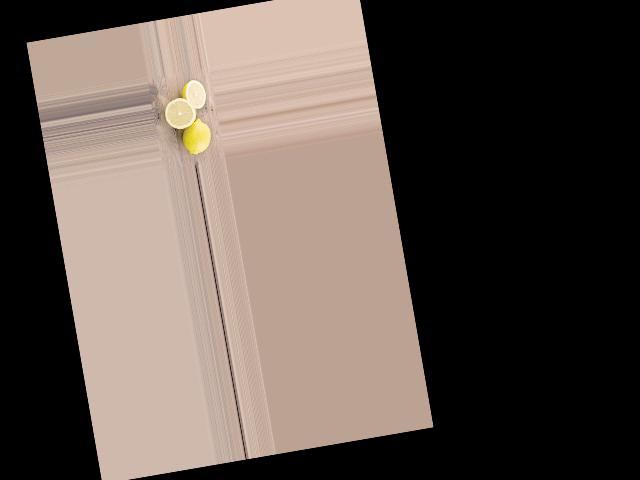lemon: (178, 116, 217, 154)
